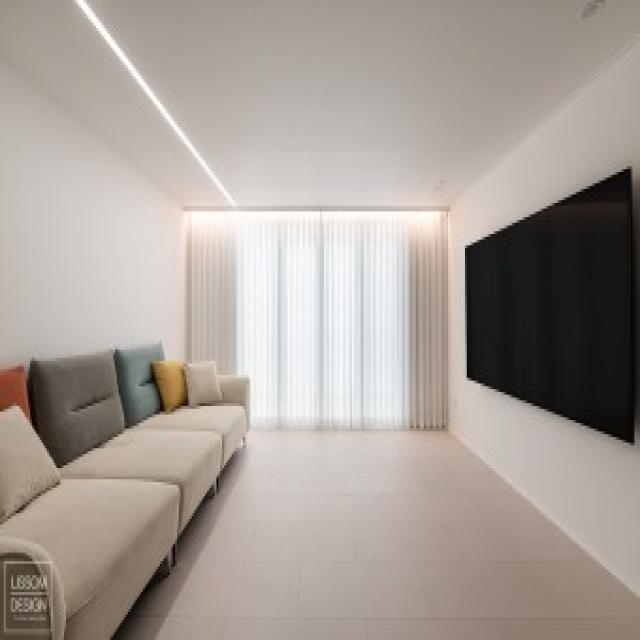Sofa: (0, 325, 252, 640)
tv: (452, 165, 636, 452)
window: (189, 208, 447, 426)
